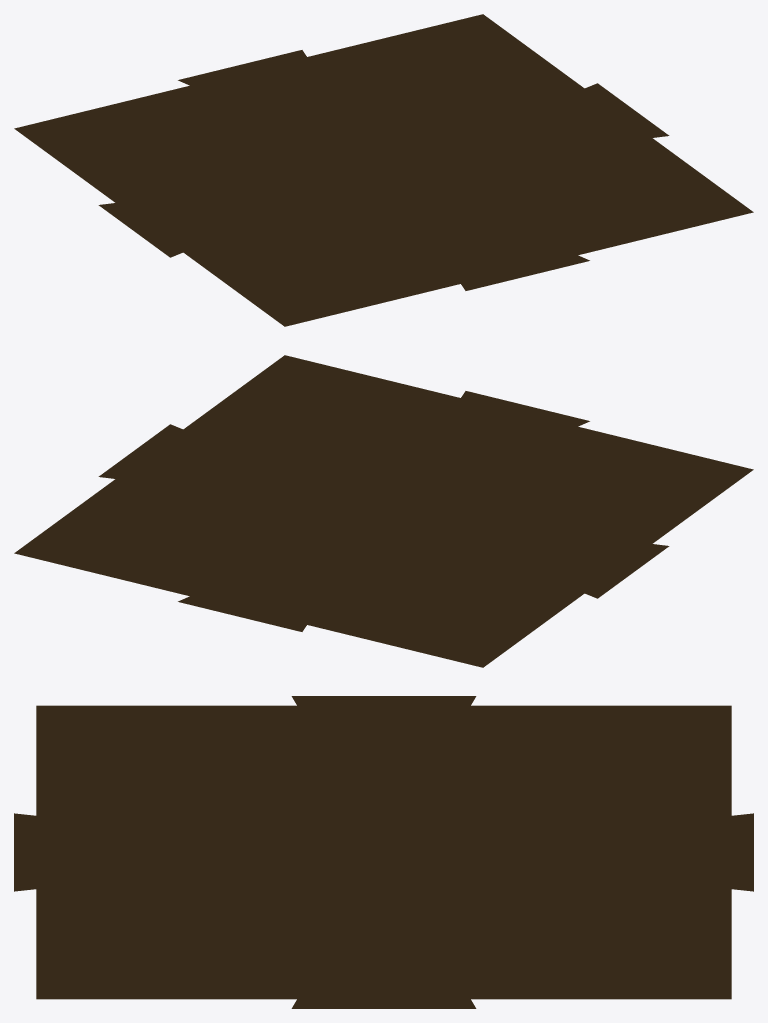
The model's file is RoomFloor.fbx.
3 renders of one model, top to bottom at view 1: azimuth 30°, elevation 25°; view 2: azimuth 150°, elevation 25°; view 3: azimuth 270°, elevation 25°, orthographic. The views are drawn at different scales.
Parts seen in each view (by area): view 1: RoomFloor.005; view 2: RoomFloor.005; view 3: RoomFloor.005.
Boxes of the visible parts, bbox=[...] form: RoomFloor.005: bbox=[14, 14, 753, 326]; RoomFloor.005: bbox=[14, 355, 753, 667]; RoomFloor.005: bbox=[14, 696, 753, 1008].
Size of the model in its own units: 796 by 0.00013 by 796.
